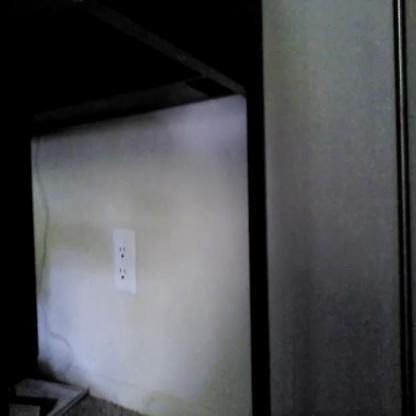OUTLET: (112, 231, 136, 292)
